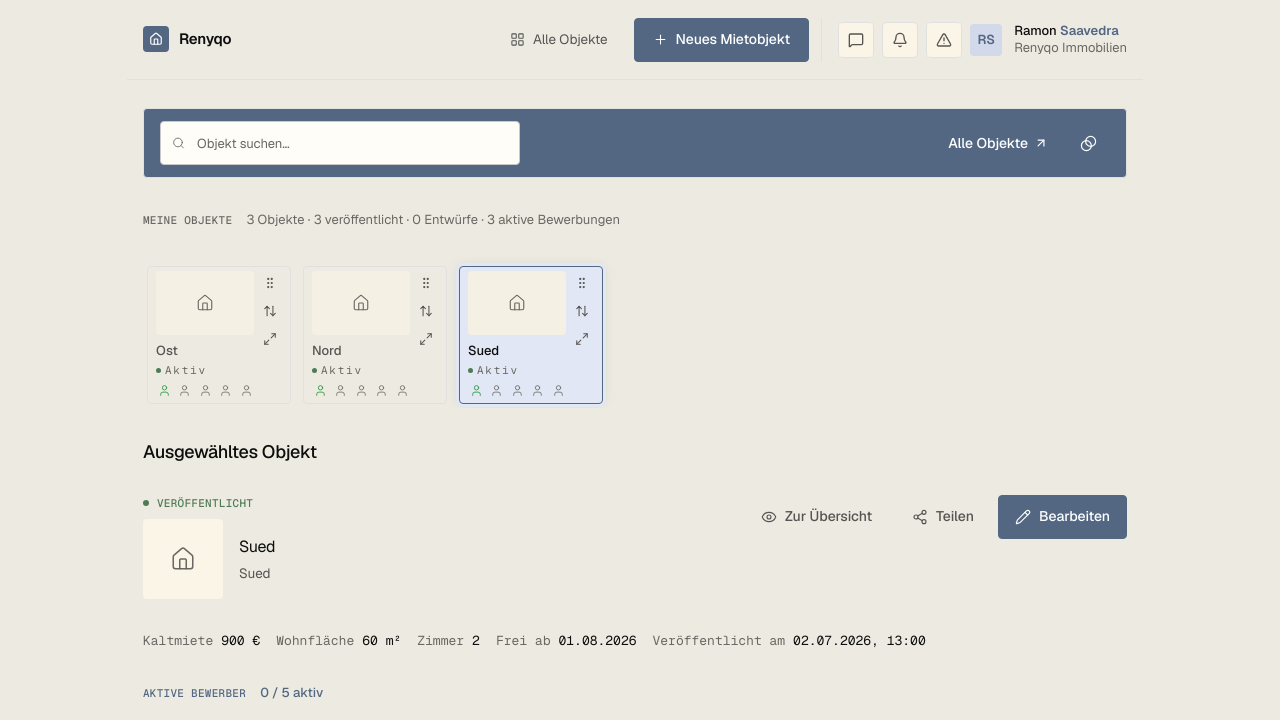
Test: DashboardView › follows display order when search hides the stored listing
Expected: the text "Saavedra" is shown, [1060, 23, 1119, 39]
Type "o" into the search field named "Objekte durchsuchen". click: (340, 143)
box: [160, 121, 520, 165]
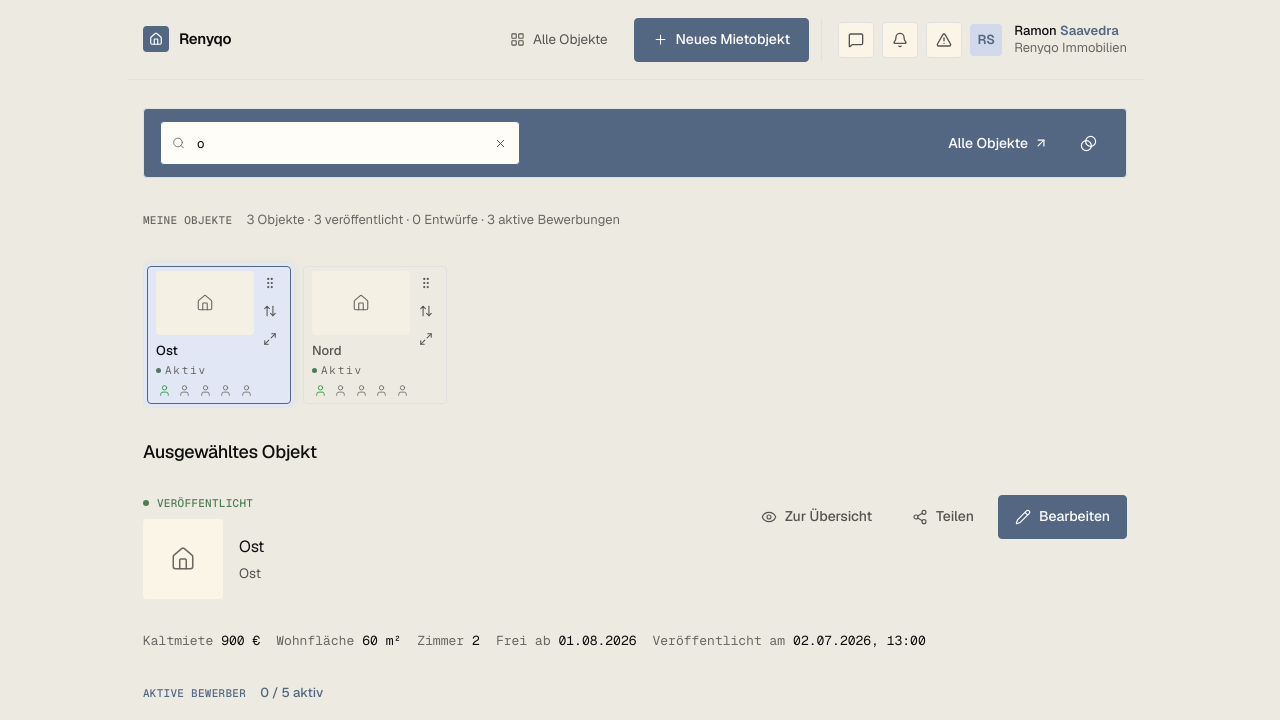
Expected: the text "Sued" is gone
